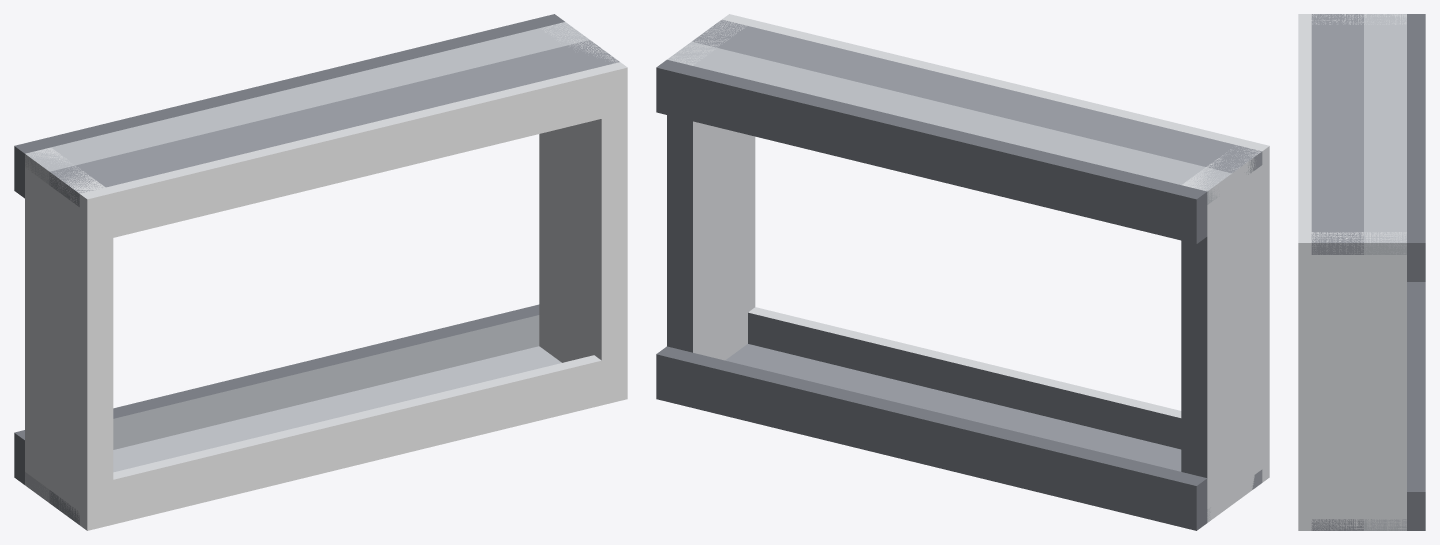
Rendered from station-mrt.gltf.
The picture shows the model from 3 angles, left to right: view 1: azimuth 30°, elevation 25°; view 2: azimuth 150°, elevation 25°; view 3: azimuth 270°, elevation 25°; orthographic projection. The views are drawn at different scales.
Parts seen in each view (by area): view 1: station-mrt; view 2: station-mrt; view 3: station-mrt.
Part boxes in pixels (x1,y1,x2,y2): station-mrt: (14,14,627,530); station-mrt: (656,14,1269,530); station-mrt: (1298,14,1425,530).
Bounding box in the file's own units: 29 × 17 × 6.8.
1 material, 1 textured.
